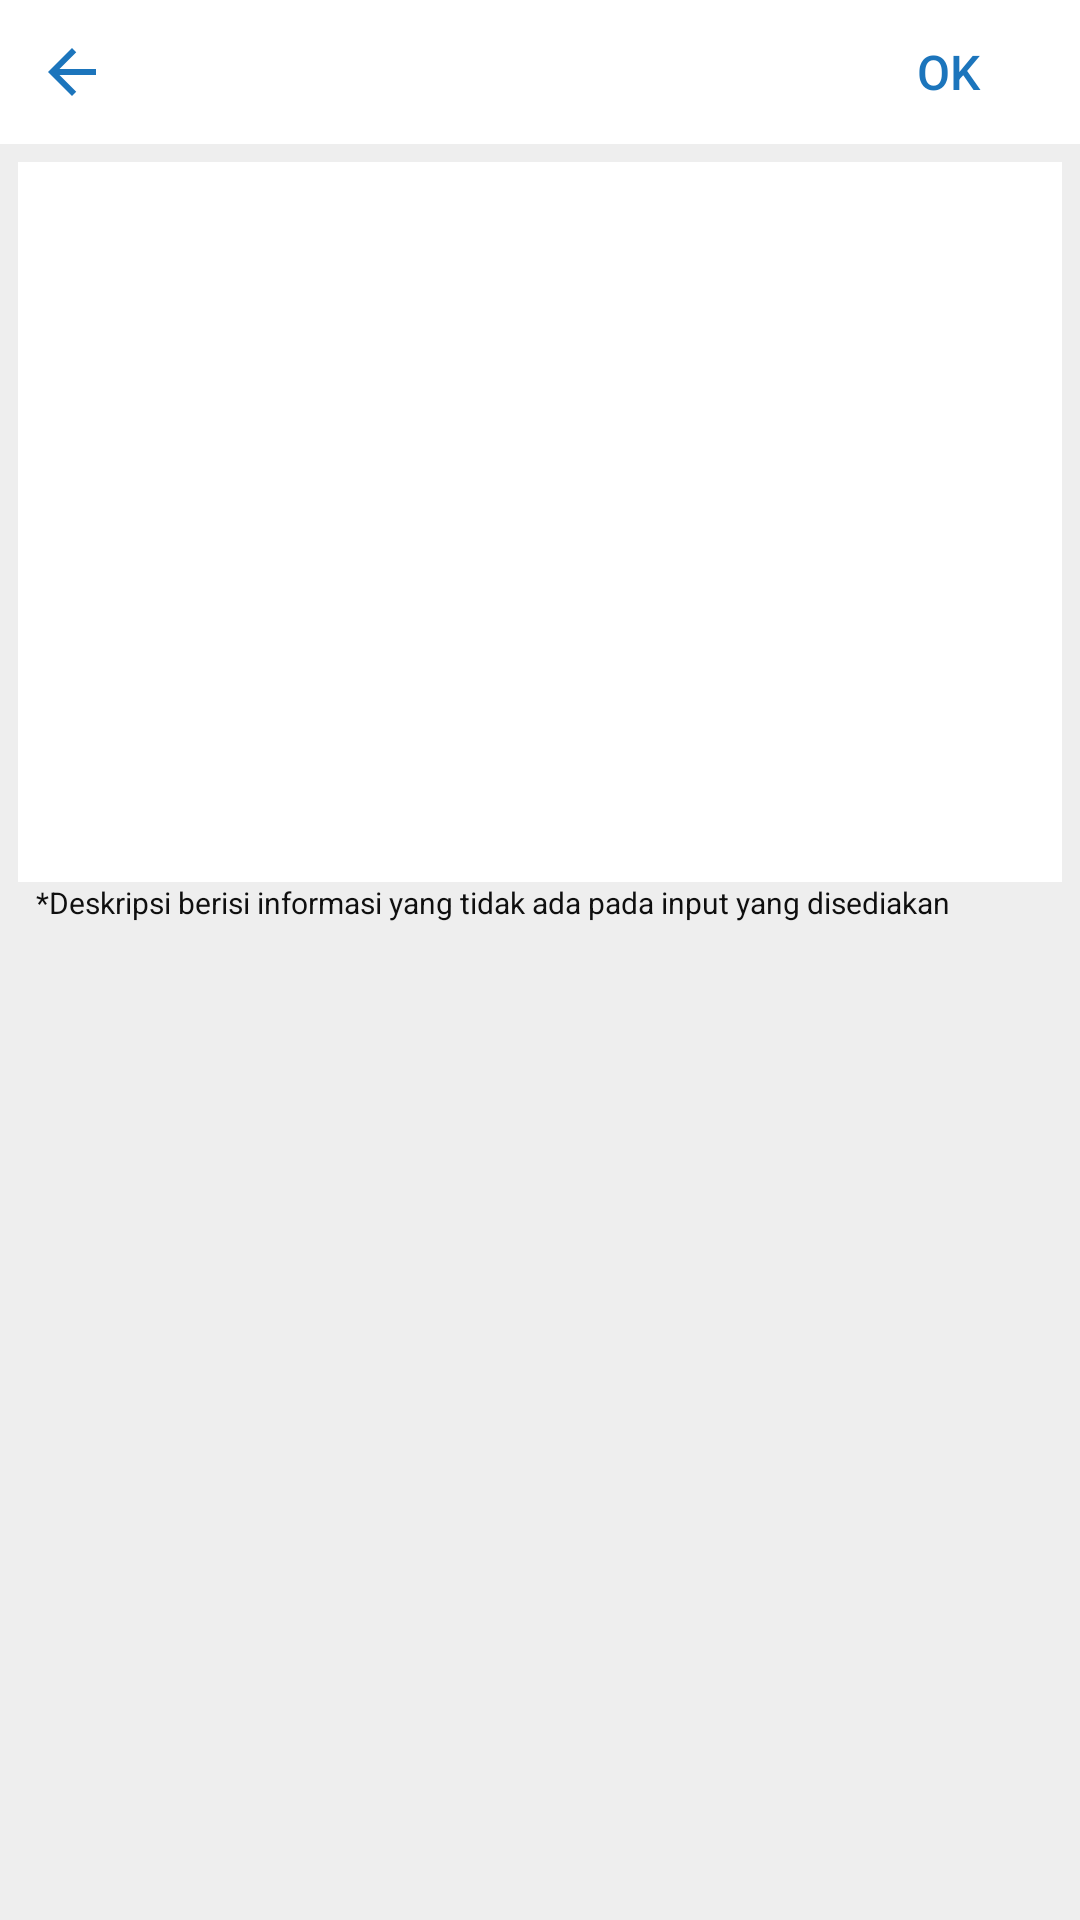

Point at icon controls on the screen. Image size 1080px x 1920px, points as point (x, y).
arrow back: point (72, 72)
